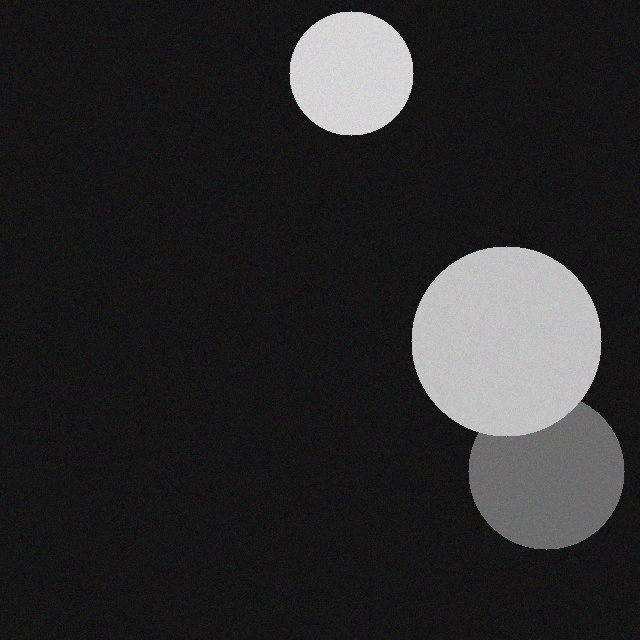circle: (411, 260, 601, 450), (468, 407, 624, 563), (289, 25, 413, 149)
